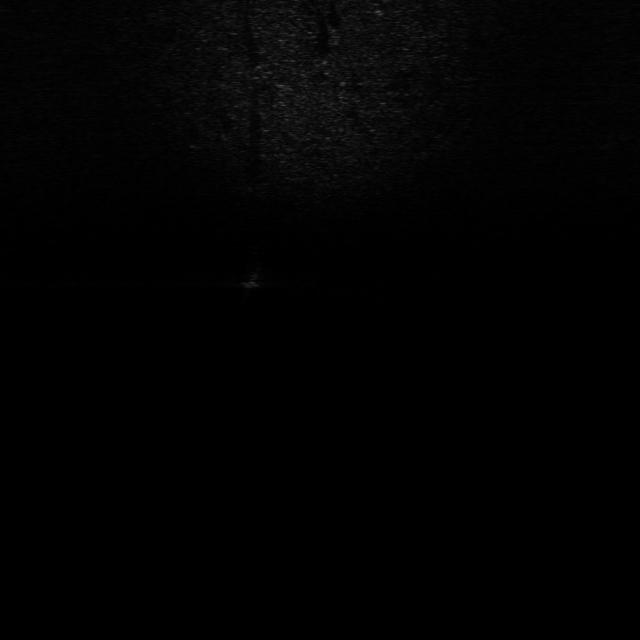human body: (230, 246, 270, 302)
